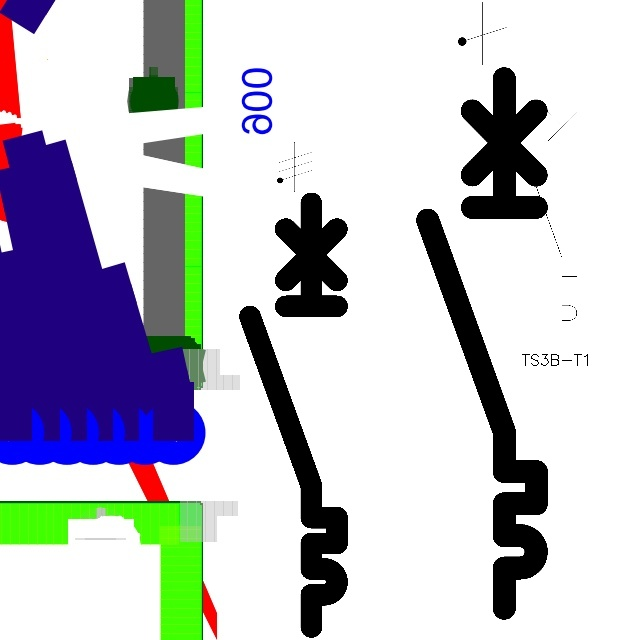interruptor_termomagnetico: (414, 65, 550, 622), (239, 192, 348, 638), (521, 91, 583, 345)
